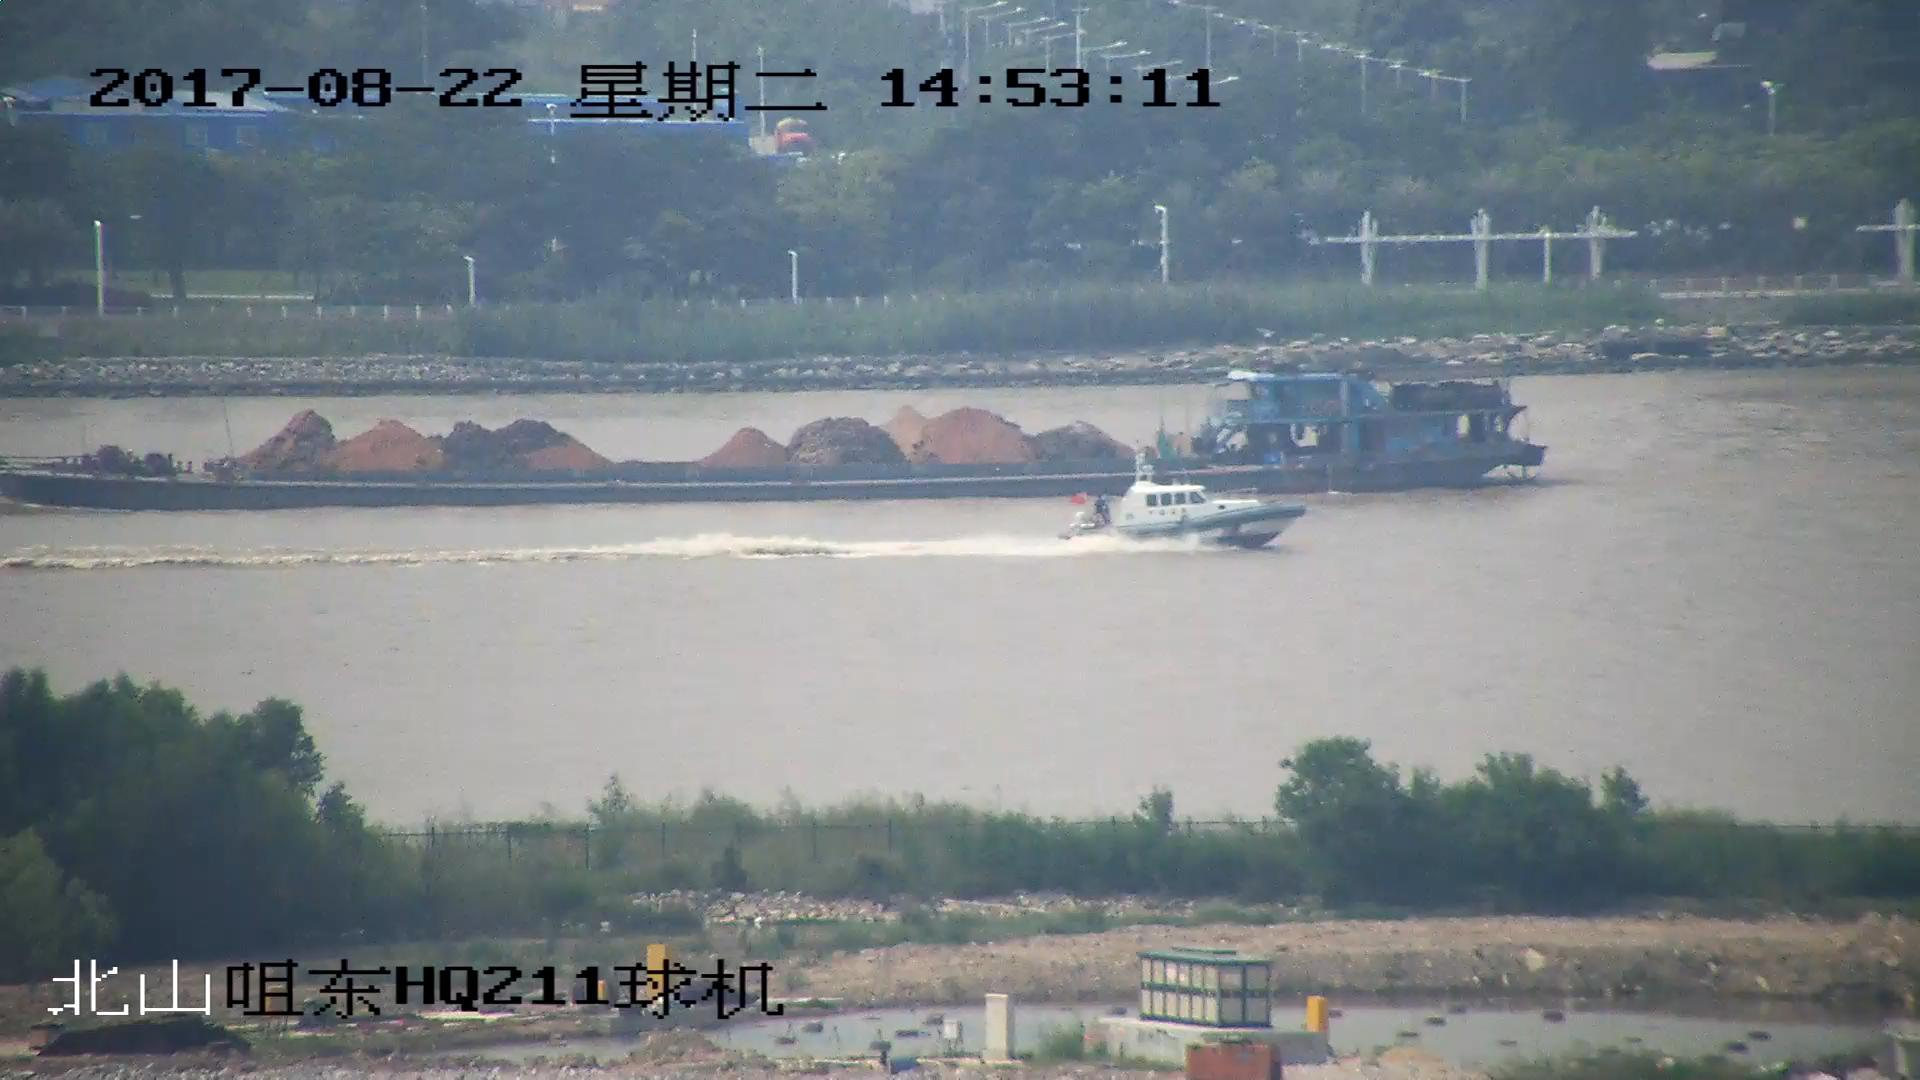Ship: (3, 345, 1551, 508), (1065, 464, 1307, 556)
